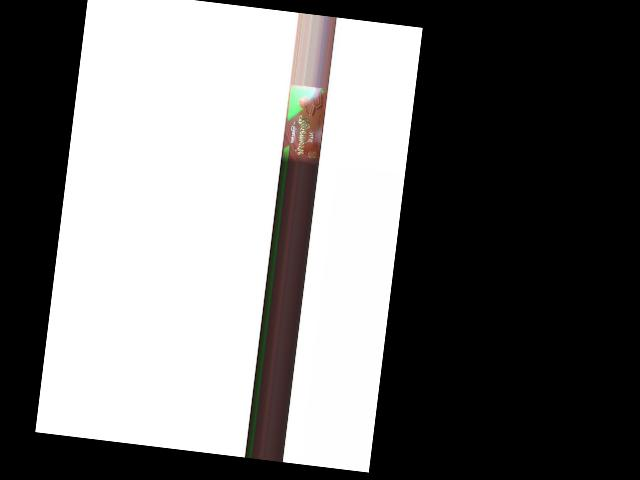chocolate: (282, 85, 327, 166)
